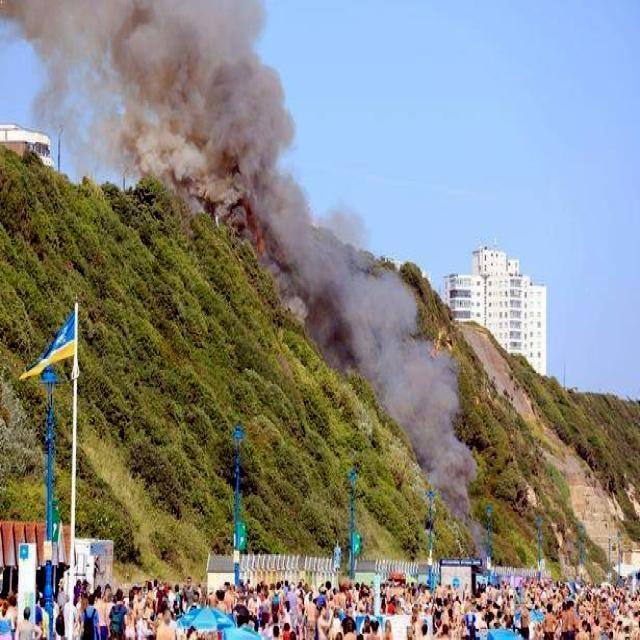Smoke: (66, 0, 310, 265), (337, 253, 475, 512)
